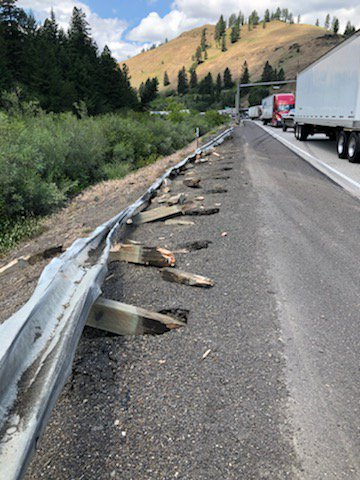damaged: (3, 80, 245, 375)
